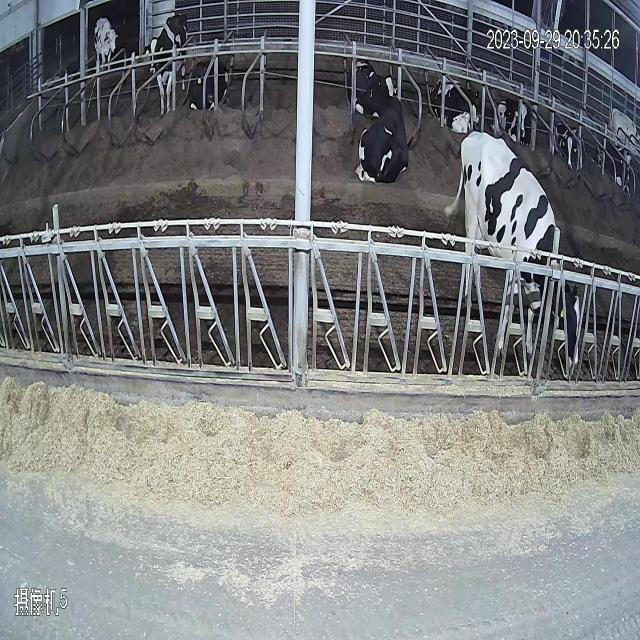lying down: (355, 68, 423, 202), (186, 44, 246, 150), (433, 49, 482, 141), (595, 118, 640, 210), (496, 81, 541, 159), (555, 105, 594, 192)
standing: (462, 128, 596, 377), (146, 0, 187, 129), (86, 8, 128, 88)
